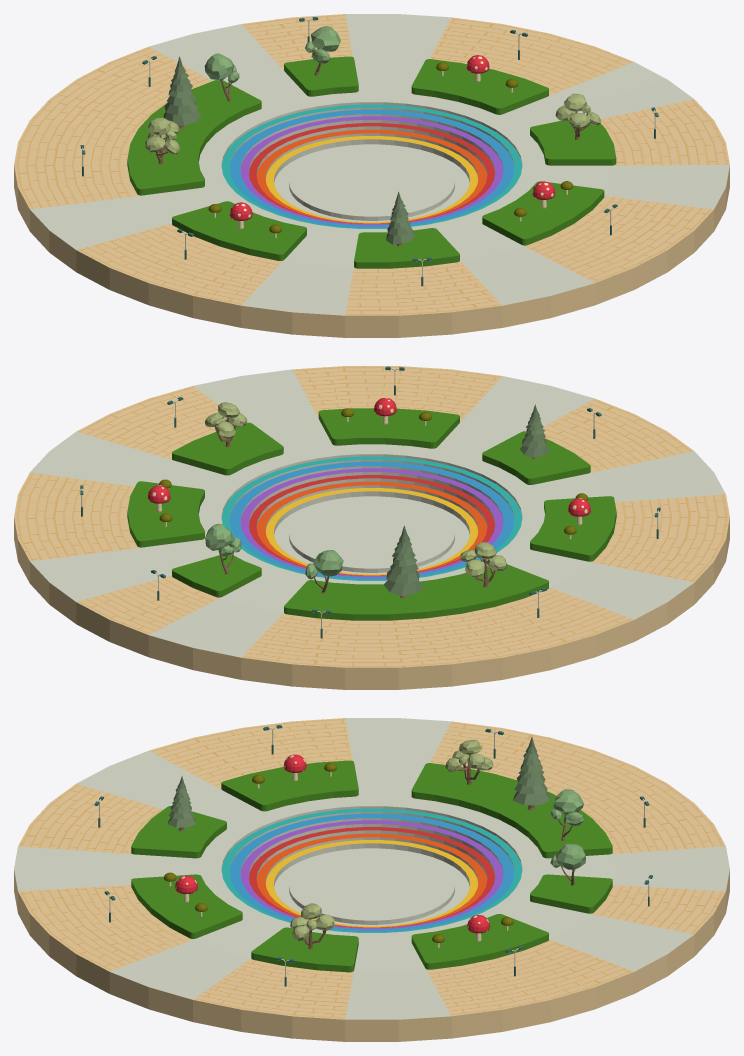
The model's file is D4_amphitheater.fbx.
3 renders of one model, top to bottom at view 1: azimuth 30°, elevation 25°; view 2: azimuth 150°, elevation 25°; view 3: azimuth 270°, elevation 25°, orthographic.
Visible parts, largest first — view 1: Cylinder.126, Cylinder.127, Pine_Trees_Pack_Tree_stem_01.090, Tree_stem_01.174, Tree_stem_01.181, Tree_stem_01.175, Pine_Trees_Pack_Tree_stem_01.089, Tree_stem_01.173; view 2: Cylinder.126, Cylinder.127, Pine_Trees_Pack_Tree_stem_01.090, Tree_stem_01.174, Tree_stem_01.181, Tree_stem_01.175, Pine_Trees_Pack_Tree_stem_01.089, Tree_stem_01.173; view 3: Cylinder.126, Cylinder.127, Pine_Trees_Pack_Tree_stem_01.090, Tree_stem_01.181, Tree_stem_01.174, Tree_stem_01.173, Pine_Trees_Pack_Tree_stem_01.089, Tree_stem_01.175.
Boxes of the visible parts, x1,y1,x2,y2 form: Cylinder.126: (14,14,729,337); Cylinder.127: (127,56,616,268); Pine_Trees_Pack_Tree_stem_01.090: (163,56,201,129); Tree_stem_01.174: (145,117,179,164); Tree_stem_01.181: (555,93,600,139); Tree_stem_01.175: (305,26,340,75); Pine_Trees_Pack_Tree_stem_01.089: (386,191,414,246); Tree_stem_01.173: (204,53,239,101); Cylinder.126: (14,366,729,689); Cylinder.127: (127,408,616,620); Pine_Trees_Pack_Tree_stem_01.090: (383,525,423,598); Tree_stem_01.174: (460,542,507,587); Tree_stem_01.181: (205,402,247,447); Tree_stem_01.175: (205,523,241,574); Pine_Trees_Pack_Tree_stem_01.089: (520,404,549,459); Tree_stem_01.173: (305,550,343,593); Cylinder.126: (14,718,729,1041); Cylinder.127: (131,760,612,972); Pine_Trees_Pack_Tree_stem_01.090: (513,737,550,810); Tree_stem_01.181: (290,903,334,949); Tree_stem_01.174: (445,739,493,784); Tree_stem_01.173: (550,789,584,840); Pine_Trees_Pack_Tree_stem_01.089: (168,776,196,831); Tree_stem_01.175: (550,843,585,885).
Bounding box in the file's own units: 12156 × 1873 × 12190.
10 materials, 3 textured.
